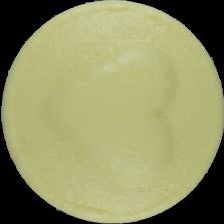21695-684: (0, 0, 224, 224)
